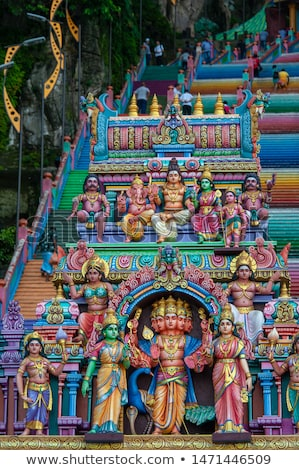Hindu Temple: (2, 251, 299, 436)
